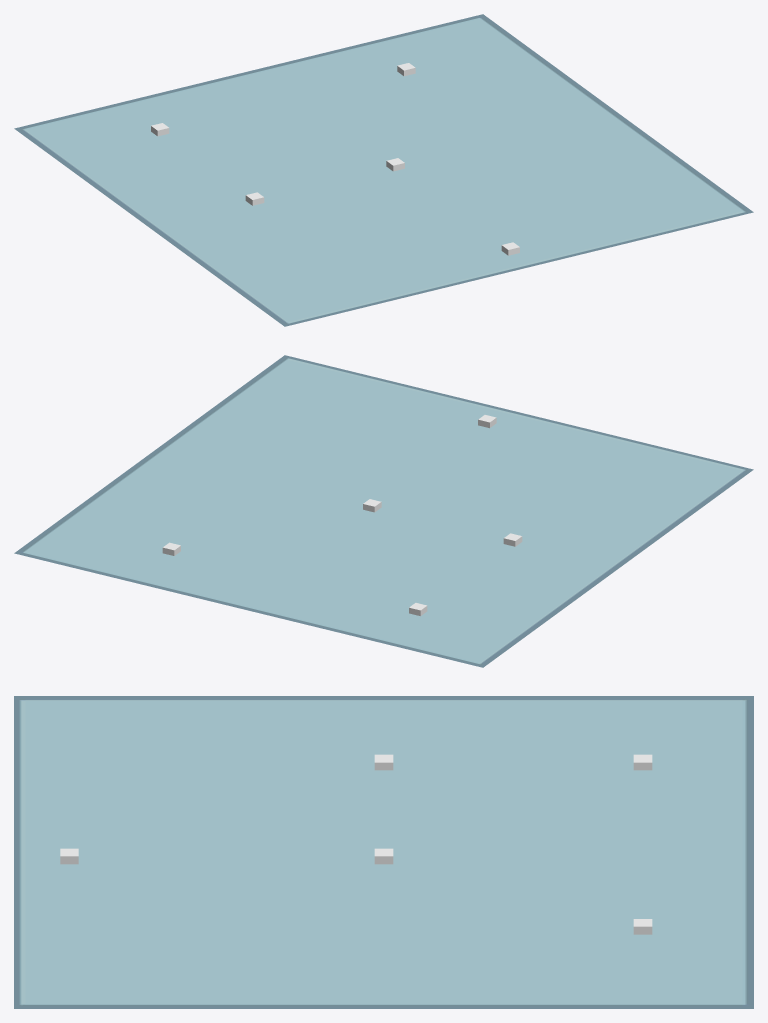
3 views of the same model, one above another, from view 1: azimuth 30°, elevation 25°; view 2: azimuth 150°, elevation 25°; view 3: azimuth 270°, elevation 25° (orthographic). The views are drawn at different scales.
Visible parts, largest first — view 1: Background_40x40; view 2: Background_40x40; view 3: Background_40x40.
Part boxes in pixels (x1,y1,x2,y2): Background_40x40: [14, 14, 753, 326]; Background_40x40: [14, 355, 753, 667]; Background_40x40: [14, 696, 753, 1008].
Size of what is drawn, in the model's own units: 40 by 1 by 40.
